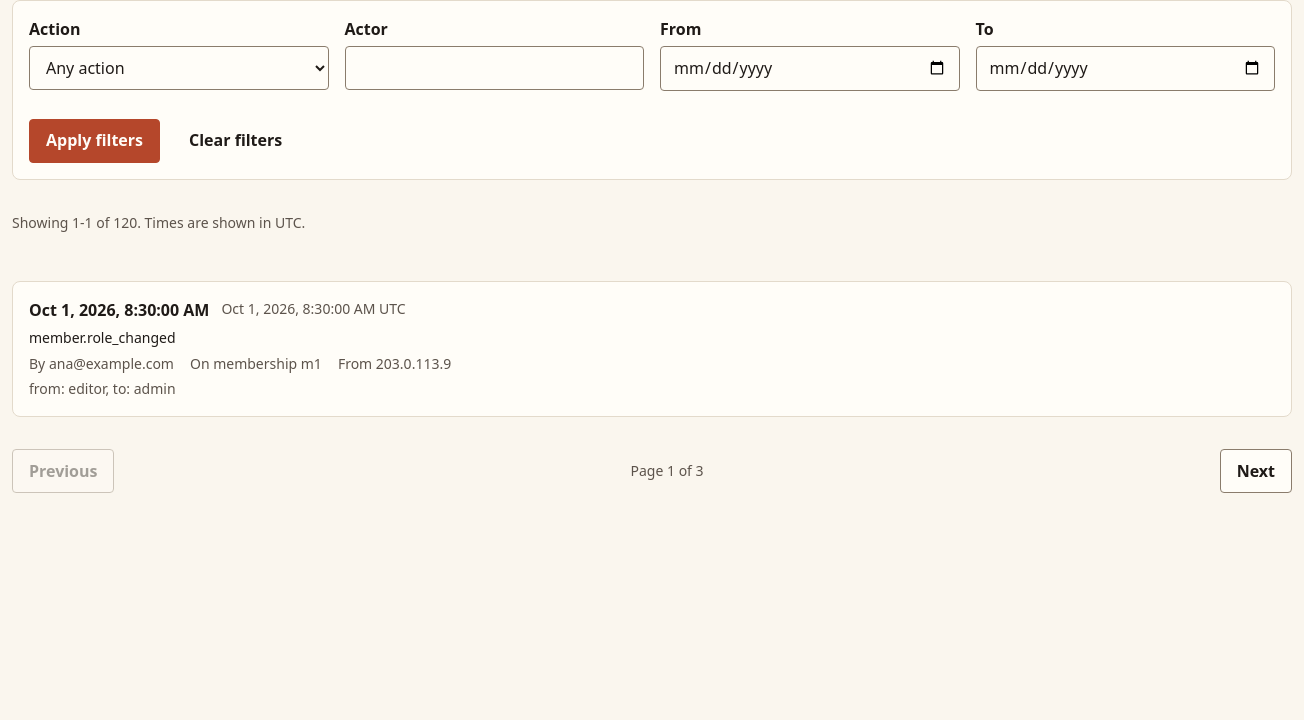
Test case: AuditLog › pages with Previous and Next, keeping the applied filters
Expected: the text "Page 1 of 3" is shown, [630,460,704,482]
Click the button "Next".
click(1256, 471)  # box [1220,449,1292,493]
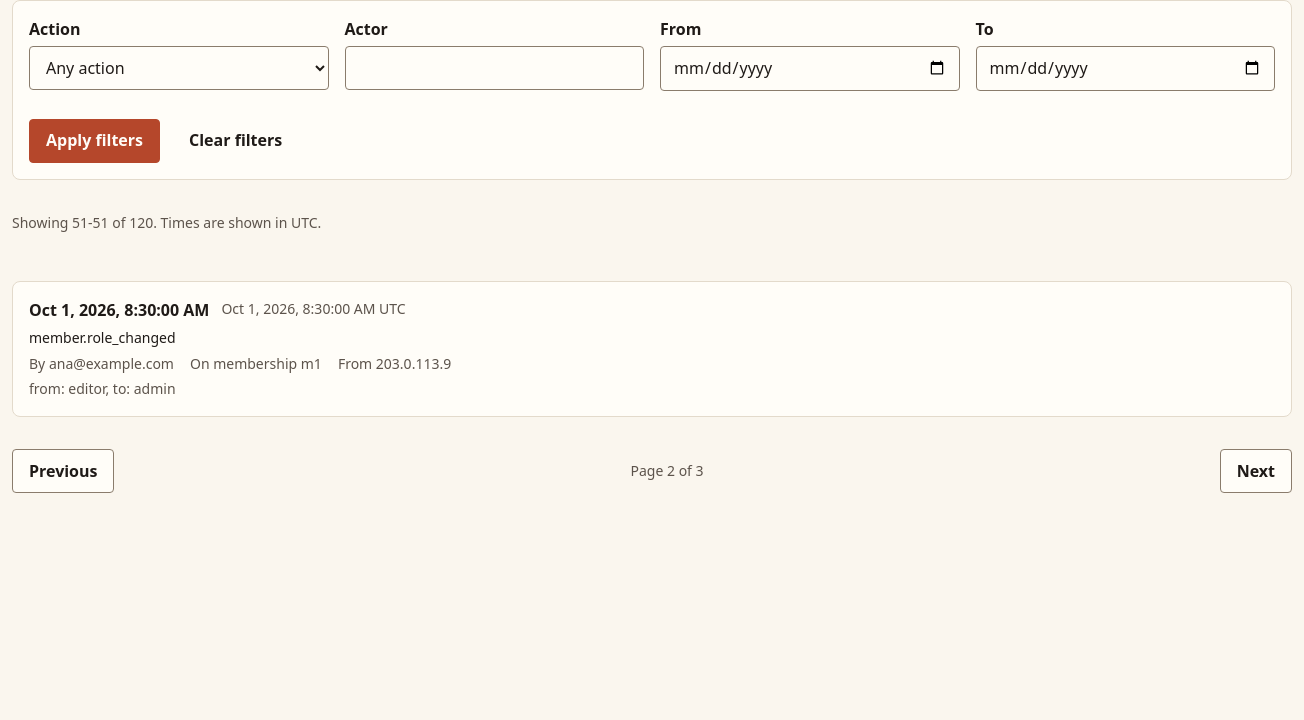
Expected: the text "Page 2 of 3" is shown, [630,460,704,482]
Expected: the text "Showing 51-51 of 120. Times are shown in UTC." is shown, [12,213,321,232]
